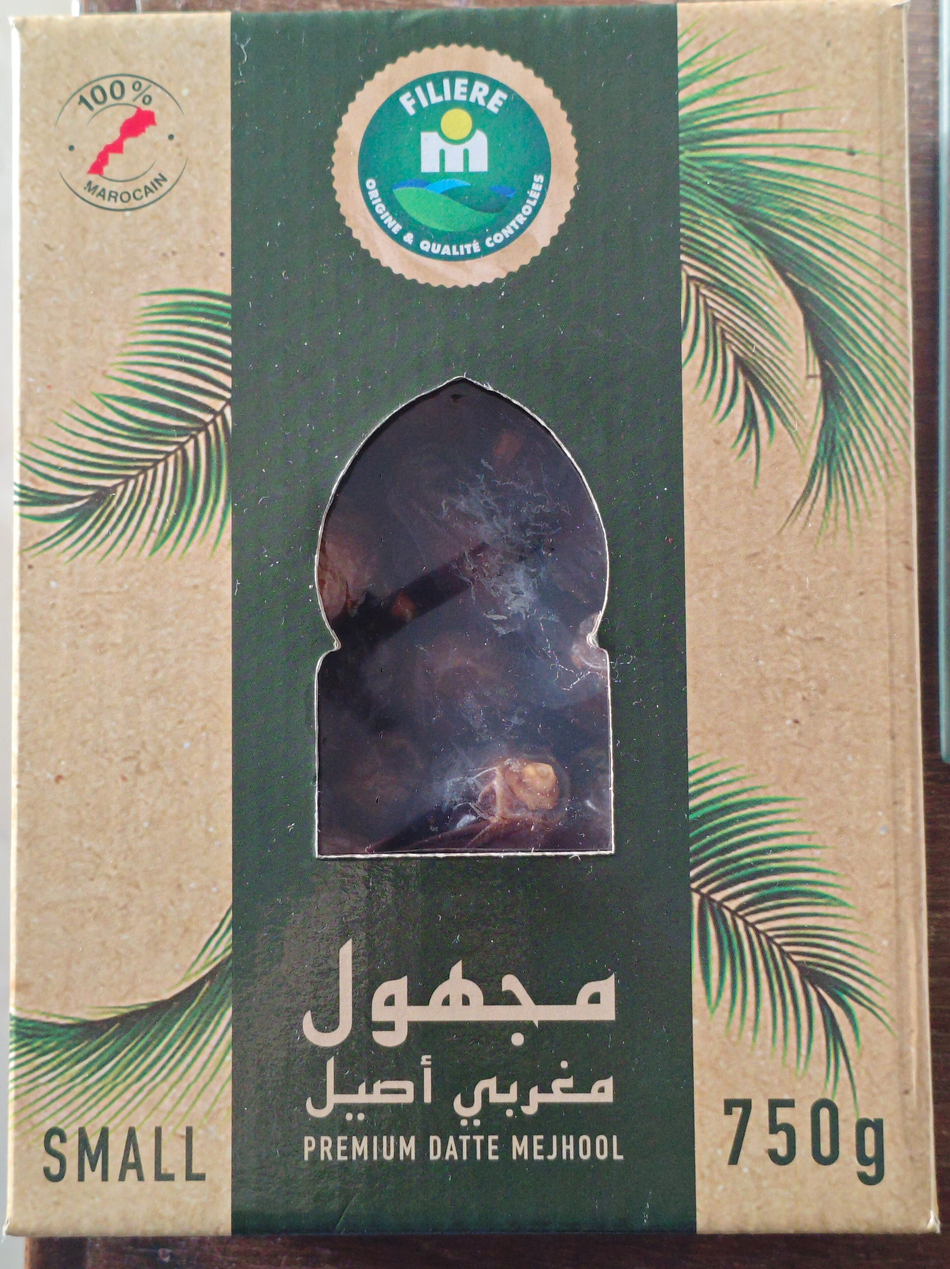Dattes premium Mejhool: (47, 63, 902, 1206)
